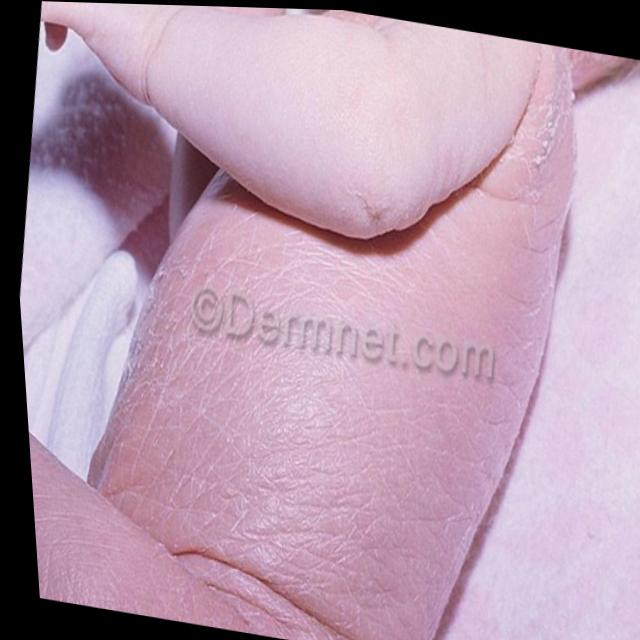liquenificacion 1: (28, 56, 577, 640)
liquenificacion 2: (28, 56, 577, 640)
